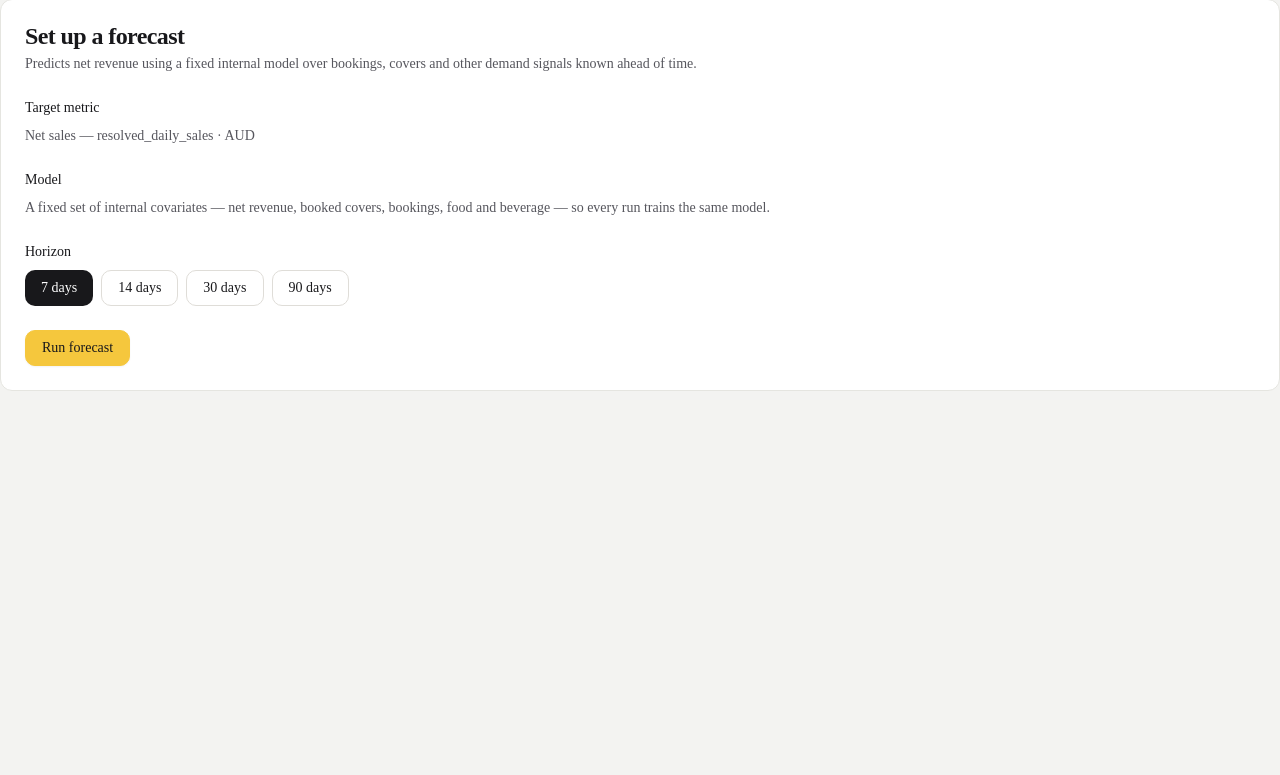
Scenario: ForecastingPage › runs a forecast and renders the forecast-vs-baseline, split, day-by-day chips and split note
The image size is (1280, 775).
Expected: the text "Net sales — resolved_daily_sales · AUD" is shown, [25,128,255,143]
What coordinates should you click on to do the following:
click the button "Run forecast"
I would click on:
 (78, 348)
Its box is [25,330,130,366].
(page scrolled)
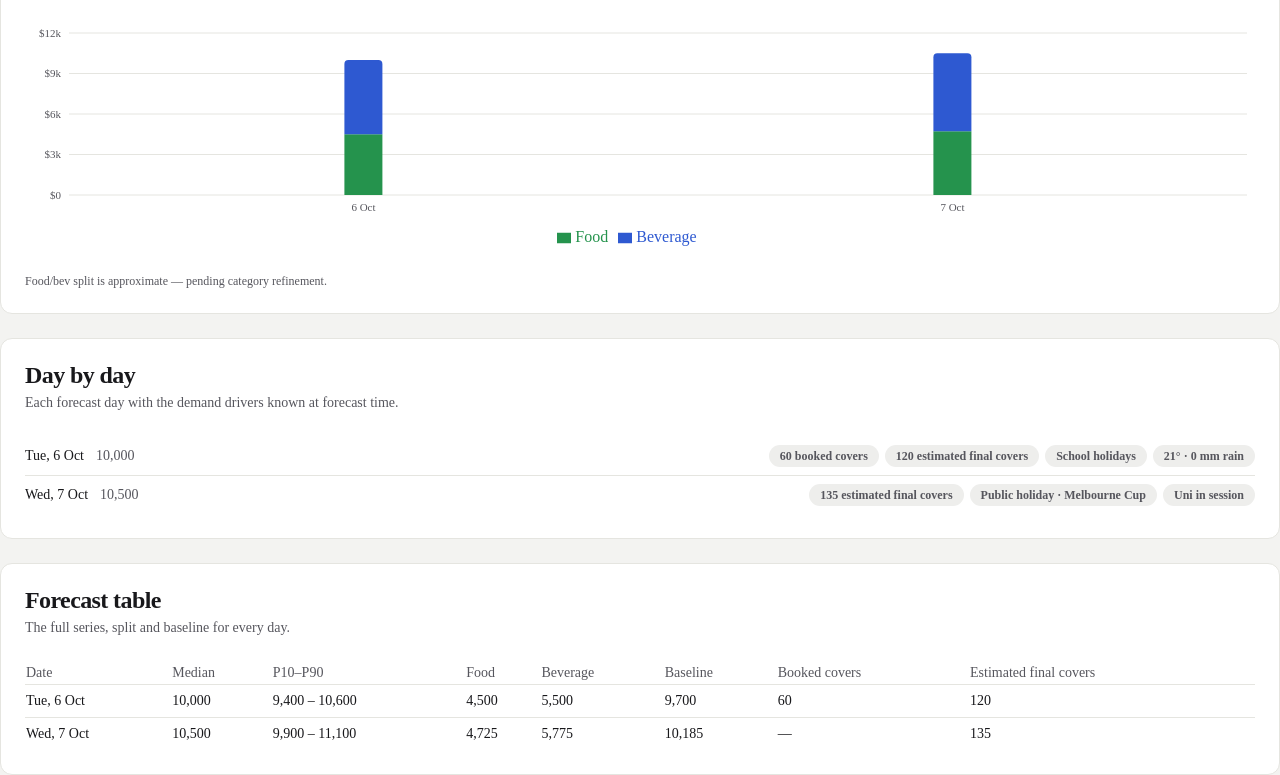
Expected: the picture with test id "food-bev-split-chart" is shown, [25,25,1255,249]
Expected: the text "Food/bev split is approximate — pending category refinement." is shown, [25,274,327,288]
Expected: the text "60 booked covers" is shown, [769,445,879,467]
